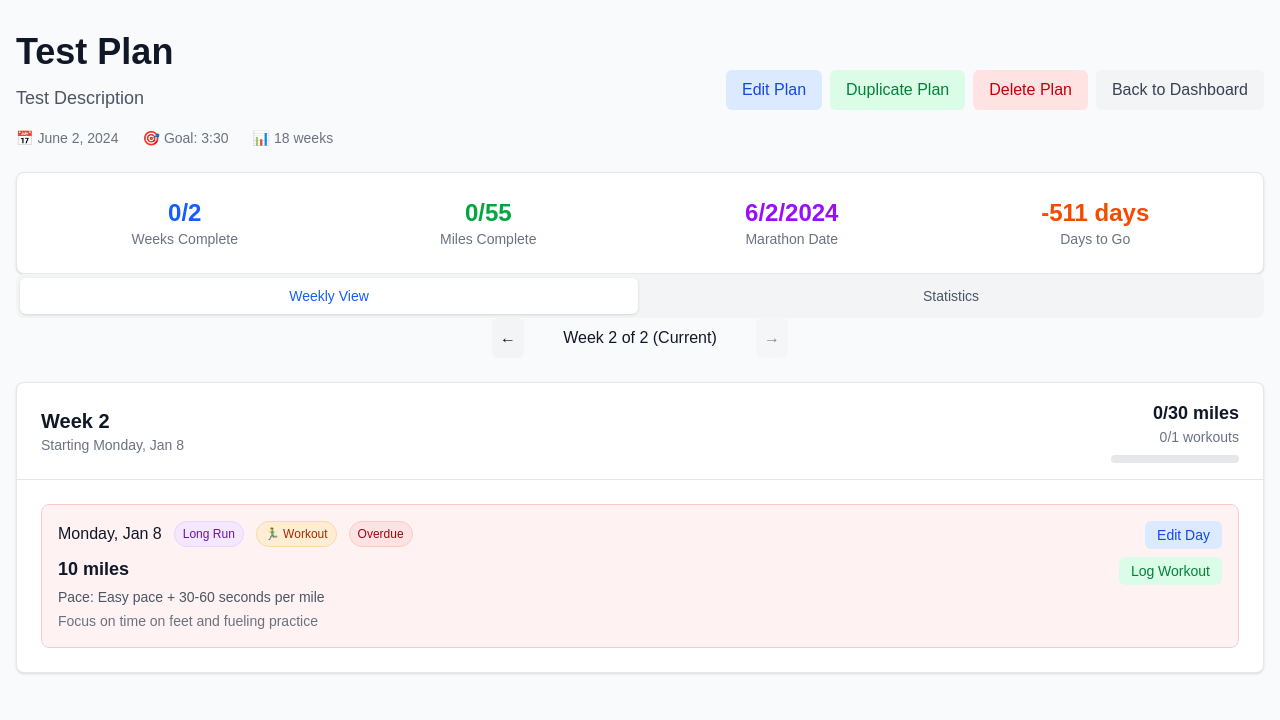
Test: TrainingPlanView › cancels editing when cancel button is clicked
The image size is (1280, 720).
Note: Start editing
Click the button "Edit Plan". click: x=774, y=90
box: [726,70,822,110]
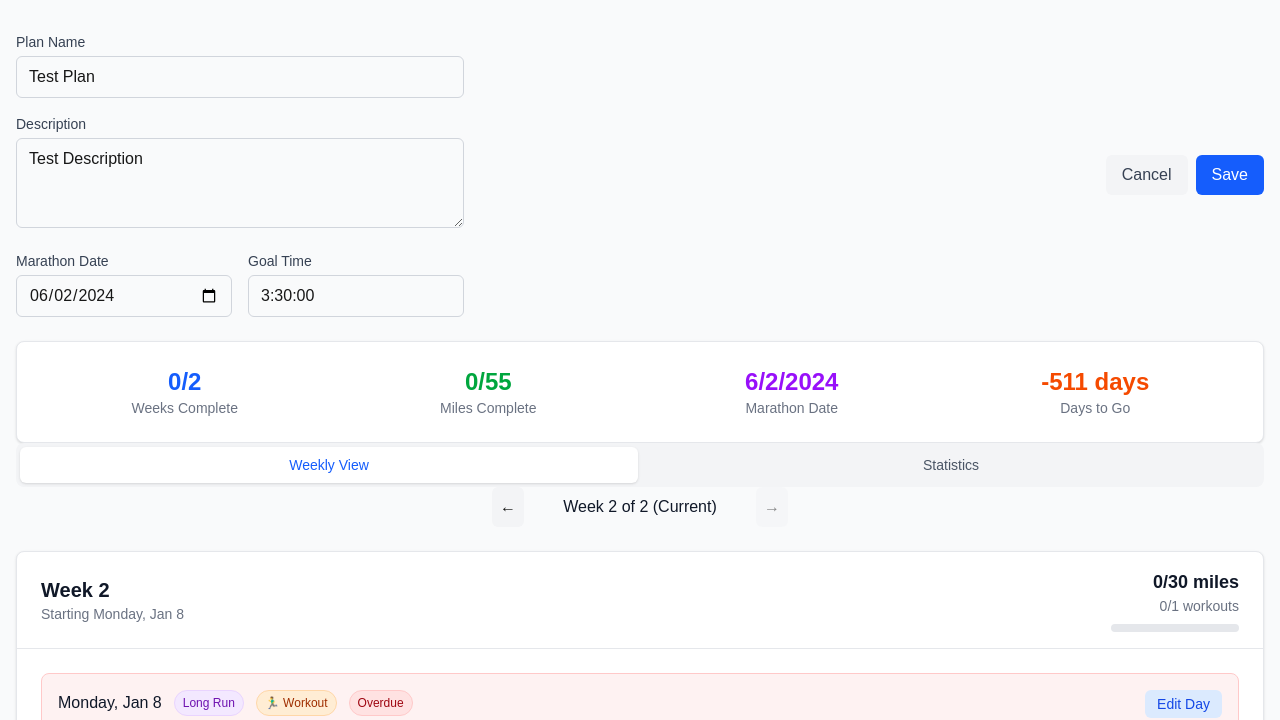
Note: Modify the name
Replace the text in the field showing "Test Plan" with "Modified Plan". click: x=240, y=77
box: [16,56,464,98]
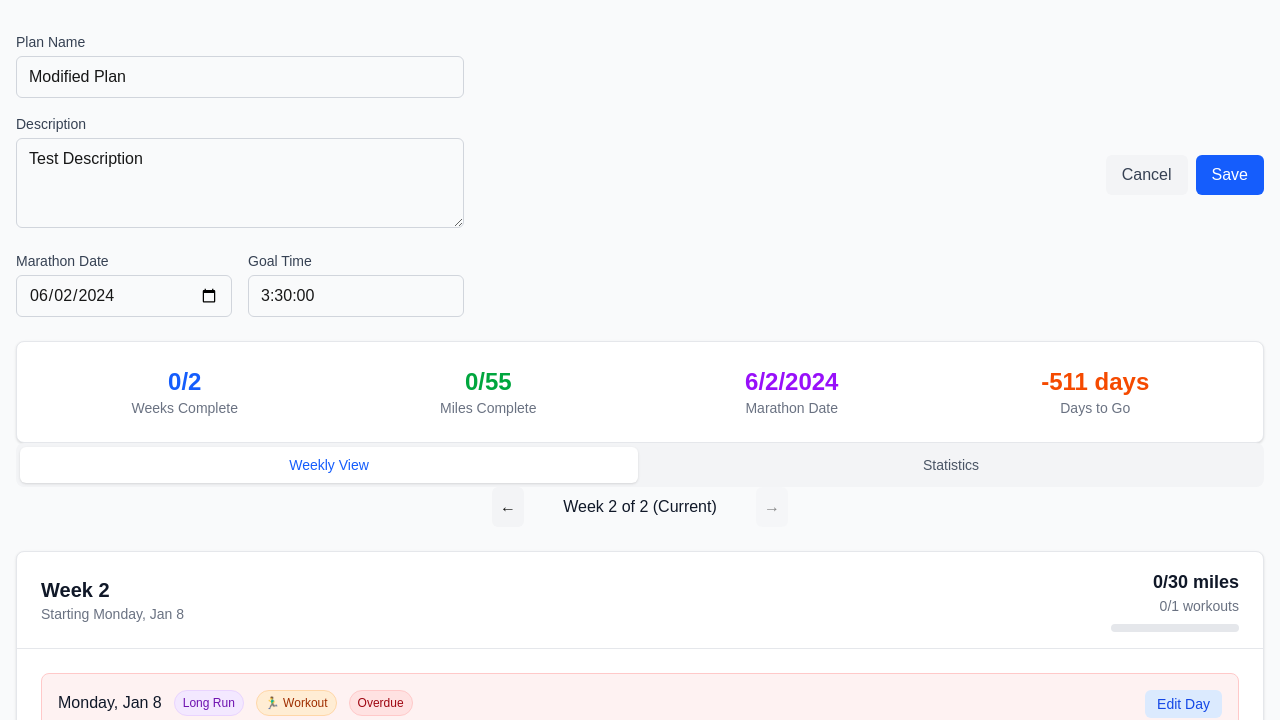
Note: Cancel editing
Click the button "Cancel". click: x=1147, y=174
box: [1106,154,1188,194]
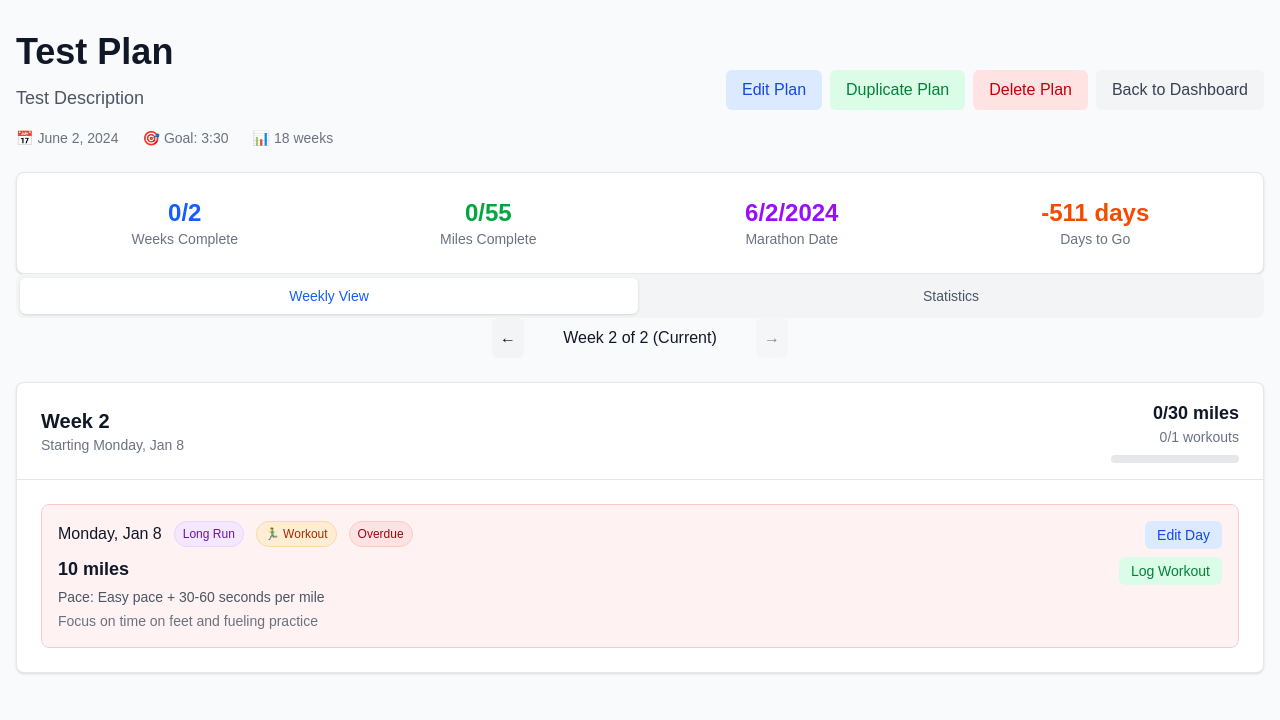
Expected: the field showing "Modified Plan" is not shown
Expected: the heading "Test Plan" is shown, [16,31,173,72]
